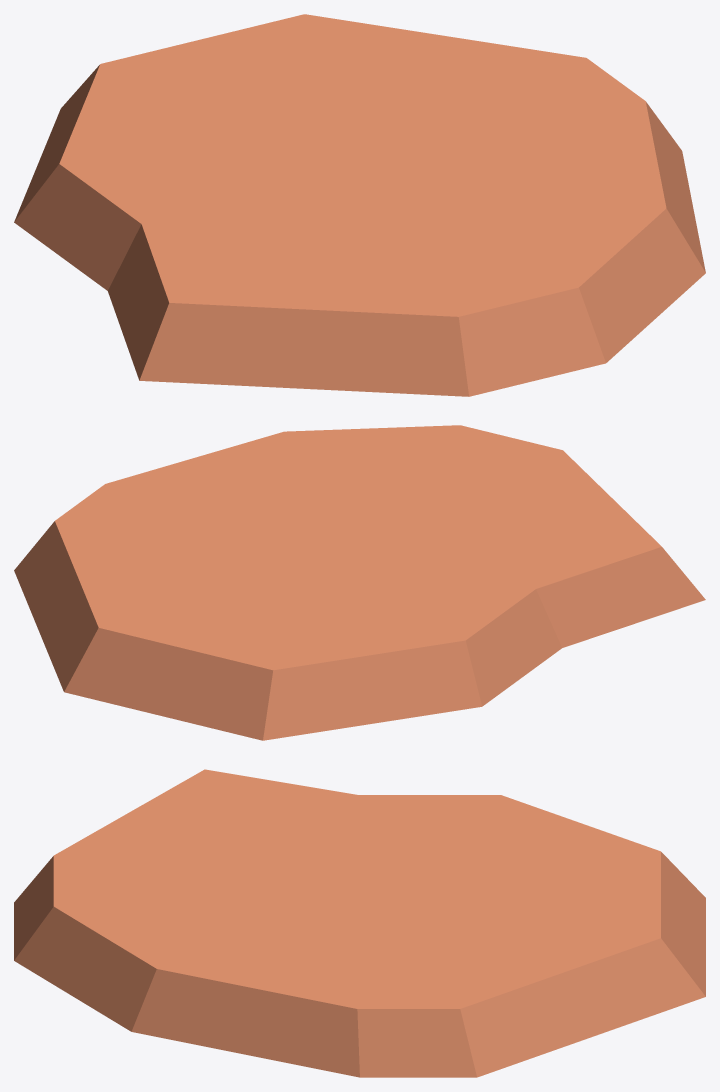
The model's file is Rock013.fbx.
3 views of the same model, one above another, from view 1: azimuth 30°, elevation 25°; view 2: azimuth 150°, elevation 25°; view 3: azimuth 270°, elevation 25° (orthographic). The views are drawn at different scales.
Parts seen in each view (by area): view 1: Rock013; view 2: Rock013; view 3: Rock013.
Boxes of the visible parts, x1=… form: Rock013: x1=14, y1=14, x2=705, y2=396; Rock013: x1=14, y1=425, x2=705, y2=740; Rock013: x1=14, y1=769, x2=705, y2=1077.
Size of the model in its own units: 125 by 11.23 by 134.
